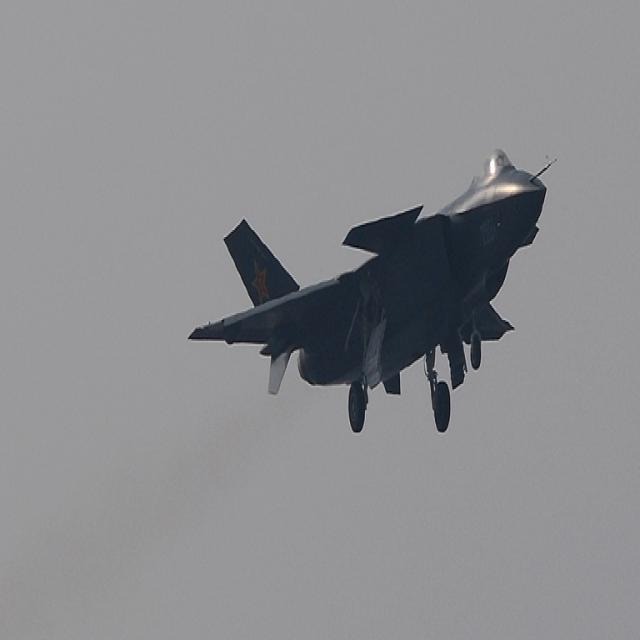MIL_Plane: (186, 149, 556, 434)
